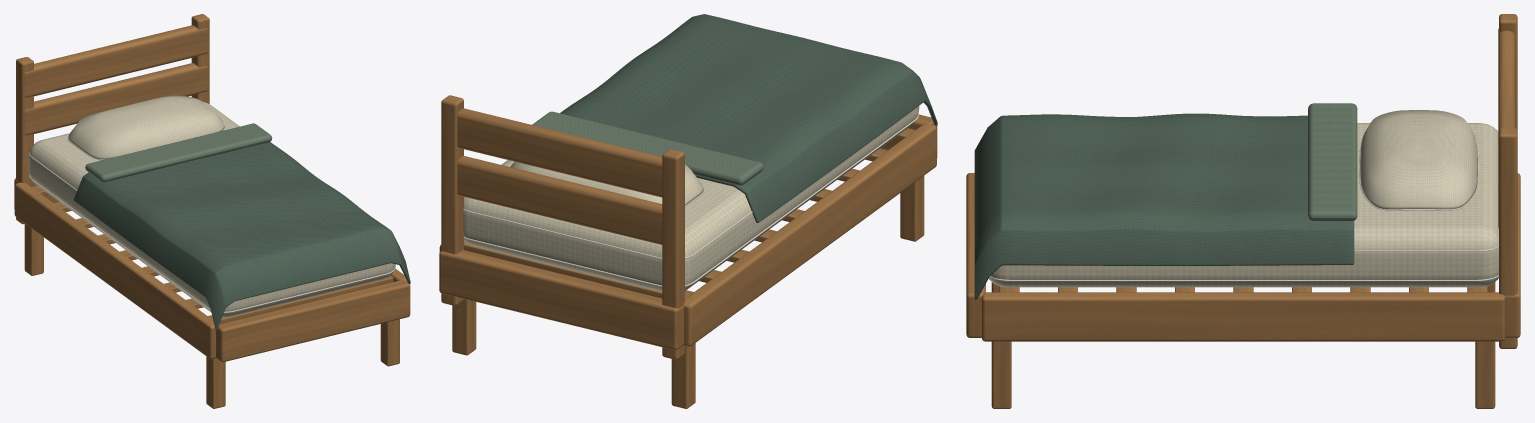
The model's file is bed.glb.
3 views of the same model, side by side, from view 1: azimuth 30°, elevation 25°; view 2: azimuth 150°, elevation 25°; view 3: azimuth 270°, elevation 25° (orthographic). The views are drawn at different scales.
Visible parts, largest first — view 1: Light ash wood • merged export, Sage woven duvet • merged export, Warm ivory linen • merged export, Duvet turnback • merged export, Linen piping • merged export; view 2: Light ash wood • merged export, Sage woven duvet • merged export, Warm ivory linen • merged export, Duvet turnback • merged export, Linen piping • merged export; view 3: Sage woven duvet • merged export, Light ash wood • merged export, Warm ivory linen • merged export, Duvet turnback • merged export, Linen piping • merged export.
Part boxes in pixels (x1=…): Light ash wood • merged export: x1=14, y1=14, x2=410, y2=408; Sage woven duvet • merged export: x1=73, y1=142, x2=410, y2=331; Warm ivory linen • merged export: x1=28, y1=95, x2=395, y2=317; Duvet turnback • merged export: x1=85, y1=123, x2=271, y2=182; Linen piping • merged export: x1=29, y1=123, x2=395, y2=312; Light ash wood • merged export: x1=439, y1=95, x2=937, y2=408; Sage woven duvet • merged export: x1=560, y1=14, x2=937, y2=222; Warm ivory linen • merged export: x1=463, y1=106, x2=919, y2=291; Duvet turnback • merged export: x1=532, y1=111, x2=763, y2=185; Linen piping • merged export: x1=463, y1=113, x2=918, y2=286; Sage woven duvet • merged export: x1=974, y1=113, x2=1354, y2=300; Light ash wood • merged export: x1=966, y1=14, x2=1520, y2=408; Warm ivory linen • merged export: x1=988, y1=110, x2=1498, y2=287; Duvet turnback • merged export: x1=1308, y1=103, x2=1357, y2=220; Linen piping • merged export: x1=989, y1=138, x2=1498, y2=281.
Bounding box in the file's own units: 1 × 0.985 × 1.8.
Materials: 5 (4 with a texture image).
